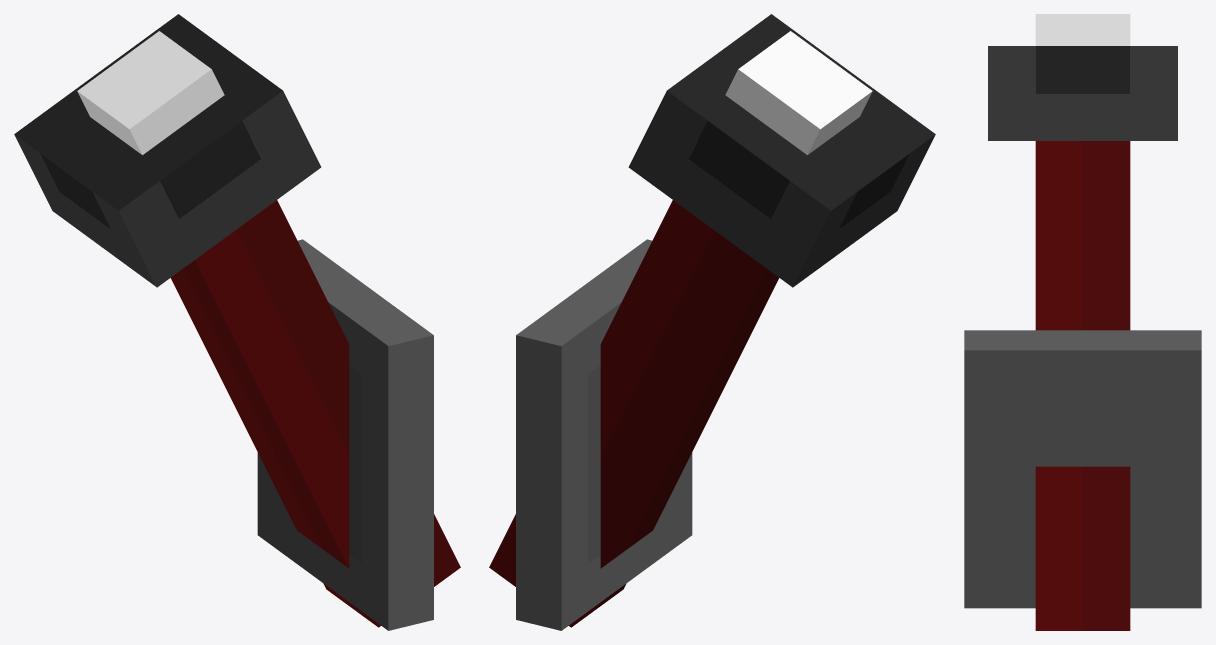
Rendered from torch.fbx.
3 renders of one model, left to right at view 1: azimuth 30°, elevation 25°; view 2: azimuth 150°, elevation 25°; view 3: azimuth 270°, elevation 25°, orthographic. The views are drawn at different scales.
Parts seen in each view (by area): view 1: cuboid, cuboid_1, cuboid_2; view 2: cuboid, cuboid_1, cuboid_2; view 3: cuboid_2, cuboid, cuboid_1.
Boxes of the visible parts, x1,y1,x2,y2 form: cuboid: [77, 31, 460, 627]; cuboid_1: [14, 14, 321, 287]; cuboid_2: [257, 239, 433, 630]; cuboid: [489, 31, 872, 627]; cuboid_1: [628, 14, 935, 287]; cuboid_2: [516, 239, 692, 630]; cuboid_2: [964, 330, 1201, 608]; cuboid: [1035, 14, 1130, 630]; cuboid_1: [988, 46, 1177, 140].
Size of the model in its own units: 50.75 by 78.92 by 31.25.
1 material, 1 textured.
